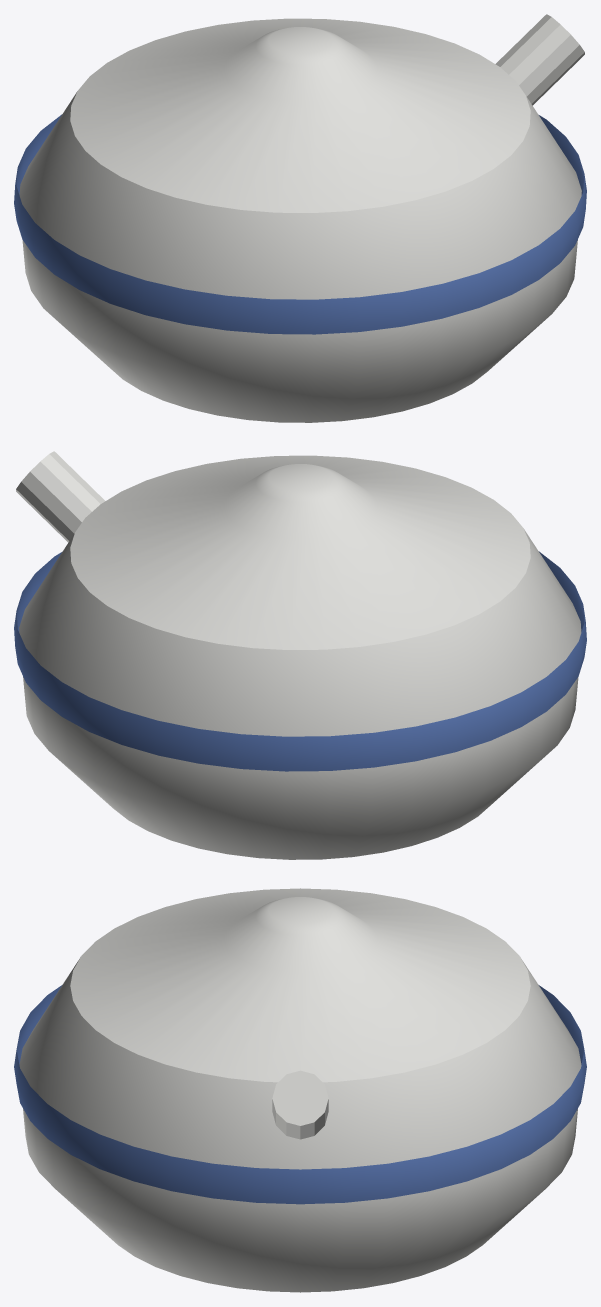
The model's file is water_dropper.glb.
3 renders of one model, top to bottom at view 1: azimuth 30°, elevation 25°; view 2: azimuth 150°, elevation 25°; view 3: azimuth 270°, elevation 25°, orthographic.
Parts seen in each view (by area): view 1: dropper, dropper_band, spout; view 2: dropper, dropper_band, spout; view 3: dropper, dropper_band, spout.
Part boxes in pixels (left/top/right/bottom): dropper: left=19, top=18, right=581, bottom=422; dropper_band: left=14, top=114, right=586, bottom=334; spout: left=495, top=14, right=584, bottom=105; dropper: left=19, top=455, right=581, bottom=859; dropper_band: left=14, top=551, right=586, bottom=771; spout: left=16, top=451, right=105, bottom=542; dropper: left=19, top=888, right=581, bottom=1292; dropper_band: left=14, top=985, right=586, bottom=1204; spout: left=272, top=1070, right=328, bottom=1139.
Size of the model in its own units: 0.0476 by 0.0255 by 0.0448.
